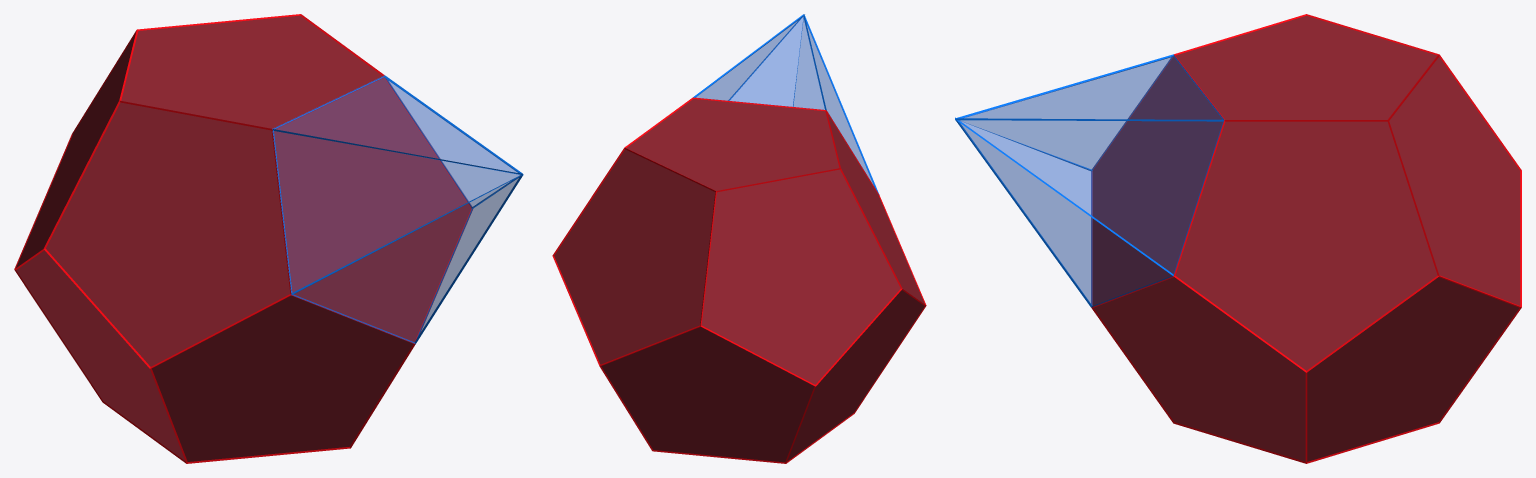
File: estelacion_dodecaedro.glb
3 views of the same model, side by side, from view 1: azimuth 30°, elevation 25°; view 2: azimuth 150°, elevation 25°; view 3: azimuth 270°, elevation 25° (orthographic). The views are drawn at different scales.
Visible parts, largest first — view 1: Solid.002; view 2: Solid.002; view 3: Solid.002.
Part boxes in pixels (bbox=[...]): Solid.002: bbox=[14, 14, 523, 463]; Solid.002: bbox=[552, 14, 926, 463]; Solid.002: bbox=[955, 14, 1521, 463].
Size of the model in its own units: 1.98 by 1.61 by 2.47.
